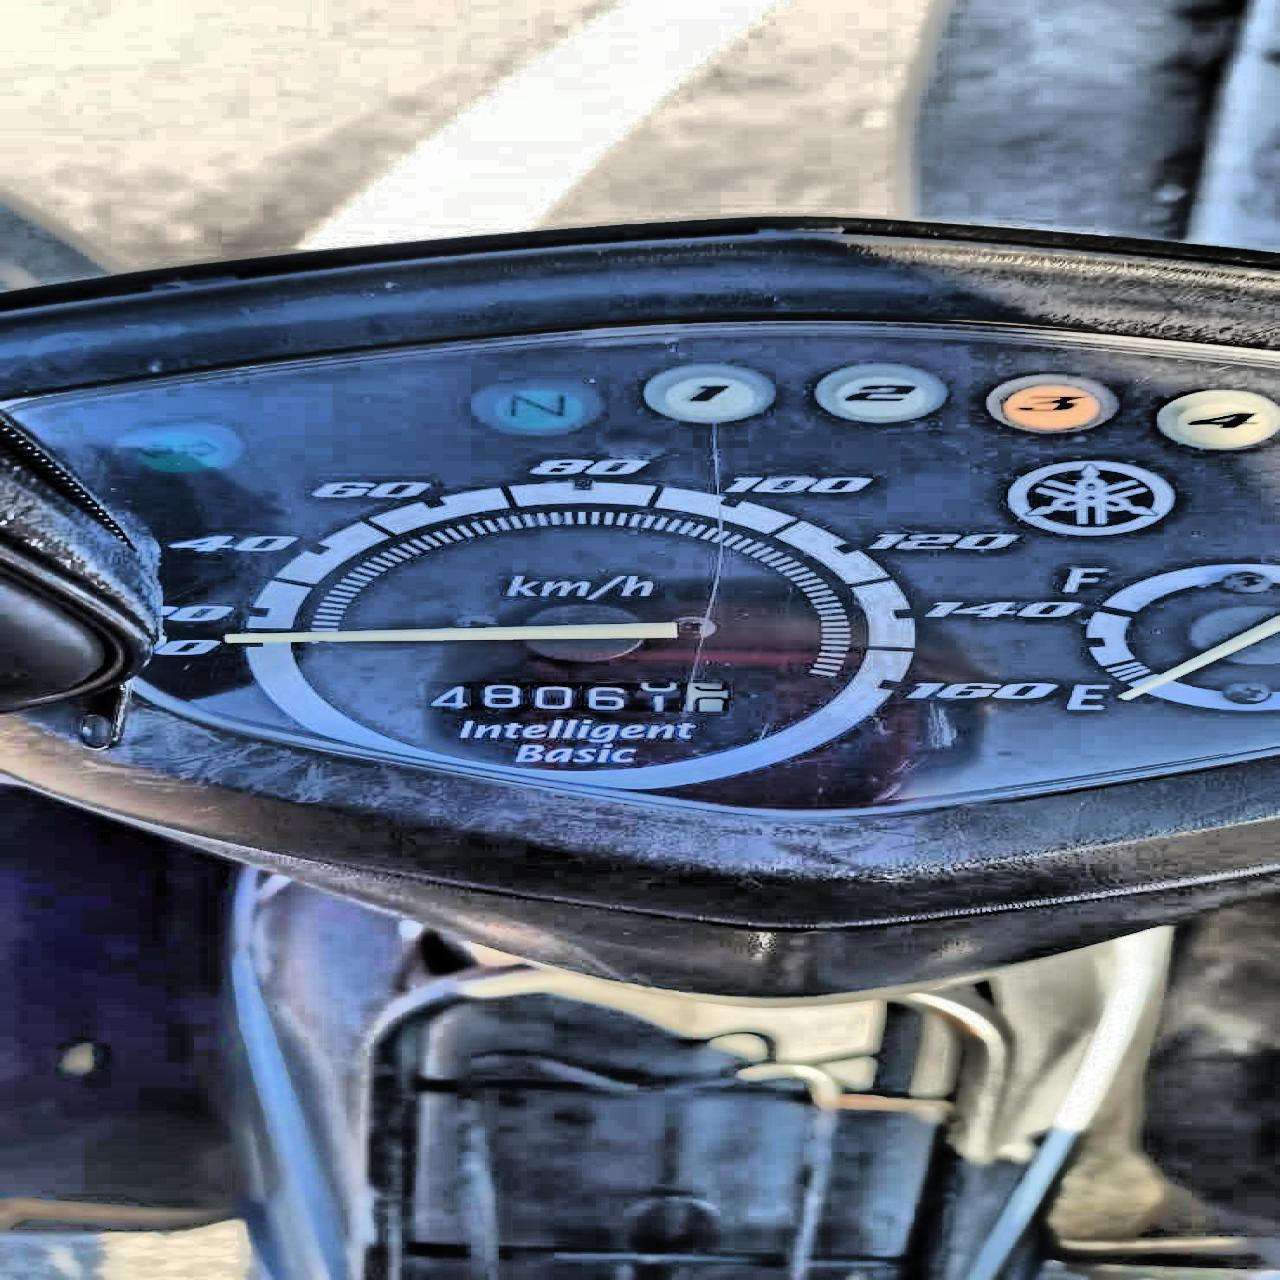0: (531, 686, 572, 708), (692, 695, 728, 712)
1: (649, 694, 666, 712)
4: (427, 685, 468, 709)
6: (586, 686, 624, 709)
8: (482, 685, 519, 707)
odometer: (418, 679, 731, 713)
